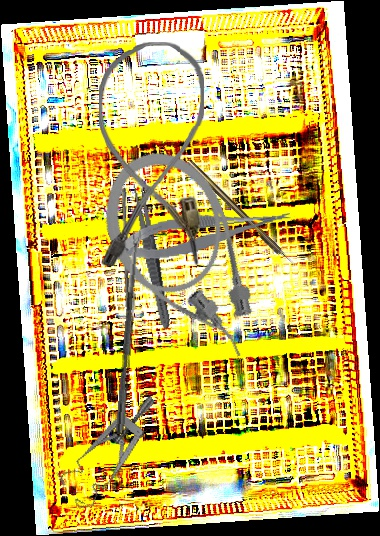Cannula: (85, 134, 276, 385), (96, 41, 205, 268)
Dressing Forceps: (128, 182, 175, 330)
Hook Surgical: (186, 159, 297, 269)
Micro Scissor: (109, 204, 294, 265)
Pusher: (117, 187, 135, 312)
Speculum: (44, 394, 184, 514)
Surgical Spoon: (115, 230, 143, 435)
